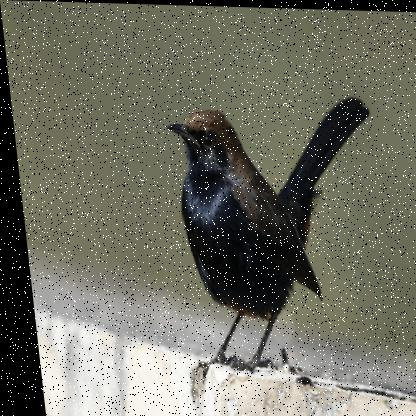Burung: (160, 90, 391, 387)
